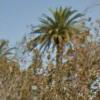Palm tree: (36, 8, 88, 67)
